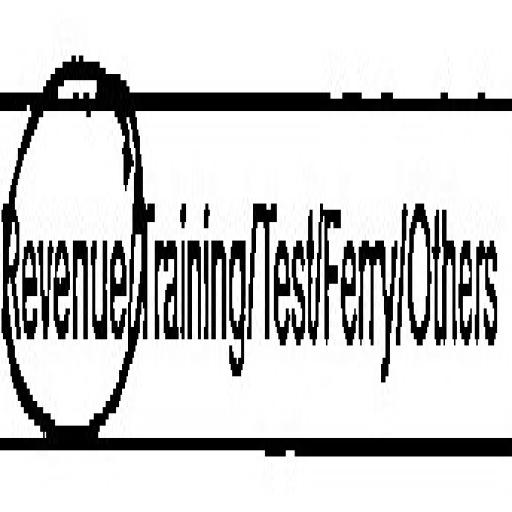check: (0, 0, 136, 487)
